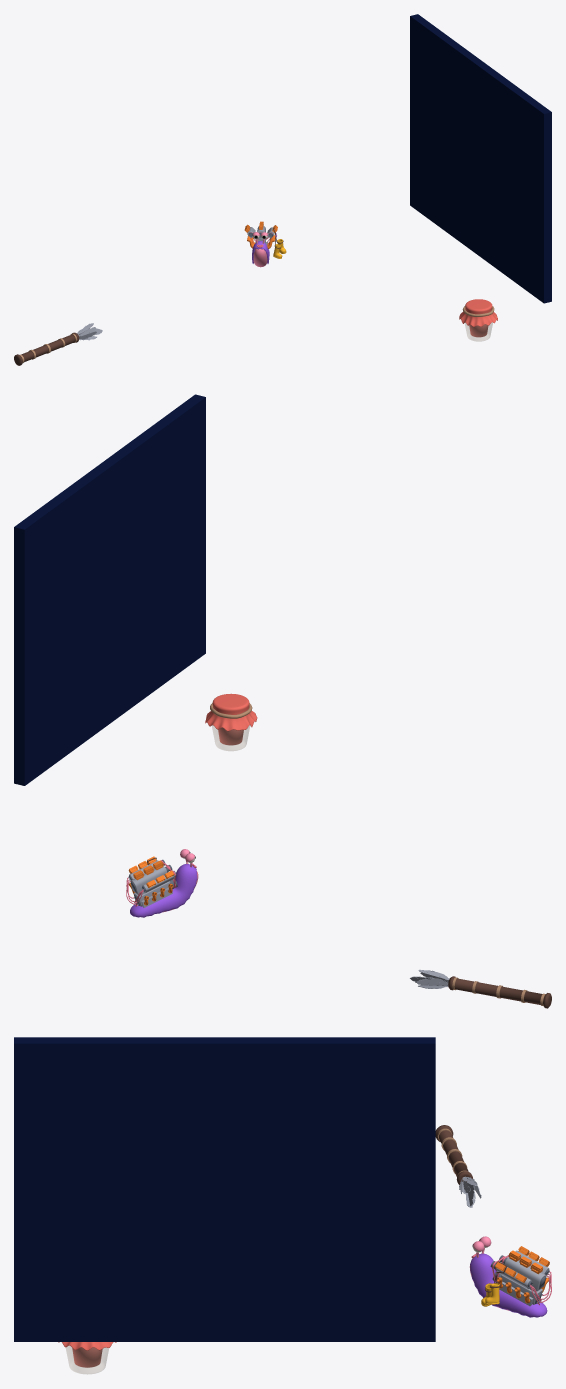
The picture shows the model from 3 angles, top to bottom: view 1: azimuth 30°, elevation 25°; view 2: azimuth 150°, elevation 25°; view 3: azimuth 270°, elevation 25°; orthographic projection. The views are drawn at different scales.
Visible parts, largest first — view 1: P3Board, Circle.062, P3Duster; view 2: P3Board, P3Snail, Circle.062, P3Duster; view 3: P3Board, P3Snail, P3JamJar, P3Duster, Engine, Circle.060.
Boxes of the visible parts, bbox=[...] form: P3Board: bbox=[410, 14, 551, 303]; Circle.062: bbox=[459, 299, 497, 326]; P3Duster: bbox=[14, 332, 79, 365]; P3Board: bbox=[14, 394, 205, 785]; P3Snail: bbox=[130, 864, 197, 917]; Circle.062: bbox=[205, 693, 257, 731]; P3Duster: bbox=[448, 976, 551, 1008]; P3Board: bbox=[14, 1037, 435, 1341]; P3Snail: bbox=[470, 1253, 547, 1317]; P3JamJar: bbox=[66, 1346, 108, 1374]; P3Duster: bbox=[435, 1125, 472, 1184]; Engine: bbox=[501, 1257, 546, 1304]; Circle.060: bbox=[72, 1347, 102, 1367].
Bounding box in the file's own units: 196 × 120 × 145.
